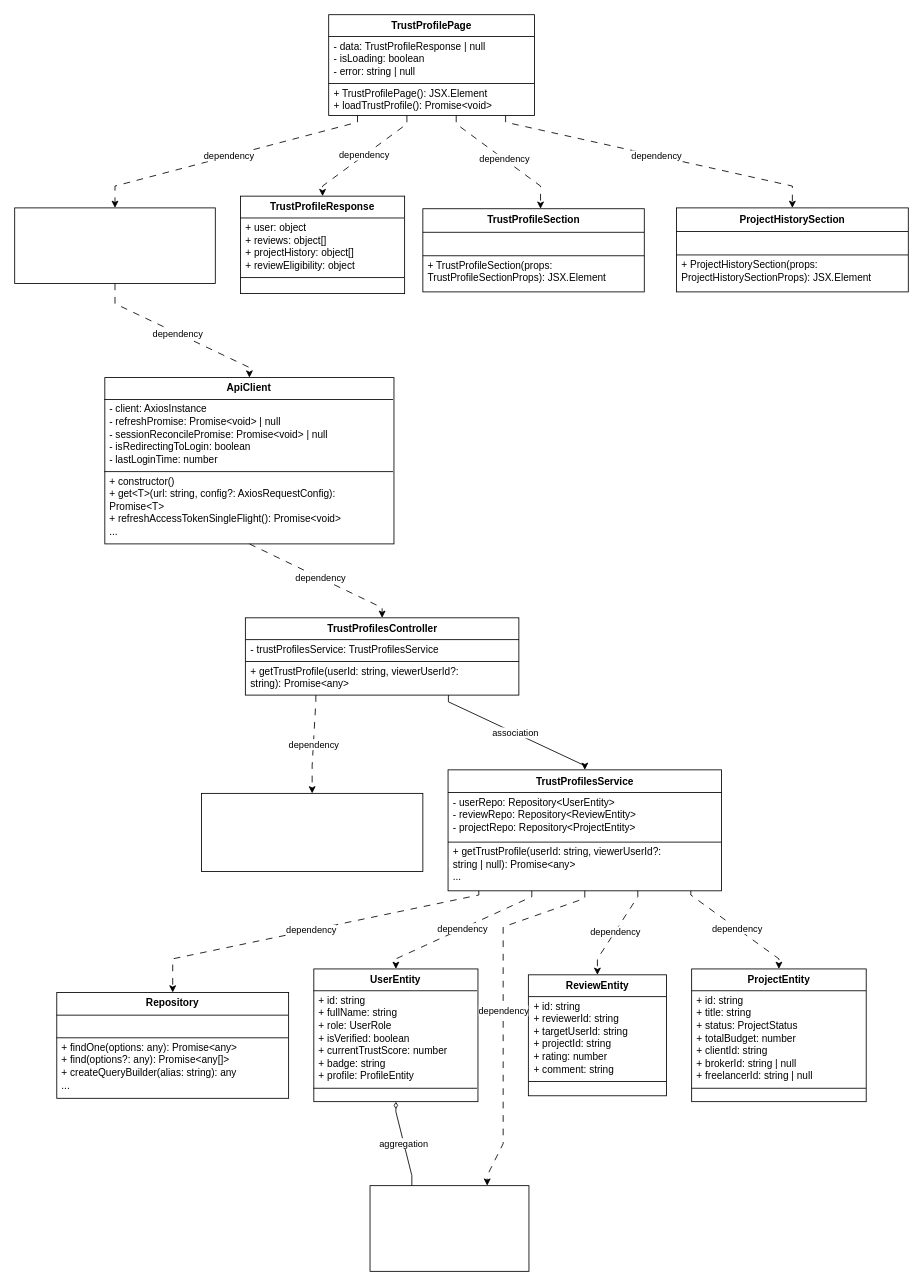
Some shapes in this 923 by 1286 pixel diagram are drawn without their labels. The box of each missing label's shape, as (x1, y1, x2, y2) in pixels:
getTrustProfile + getTrustProfile(userId: string): Promise<TrustProfileResponse>: (14, 207, 215, 284)
JwtAuthGuard + canActivate(context: any): boolean | Promise<boolean> | any: (201, 793, 423, 872)
ProfileEntity + avatarUrl: string | null + bio: string | null + skills: string[]: (369, 1185, 529, 1271)
